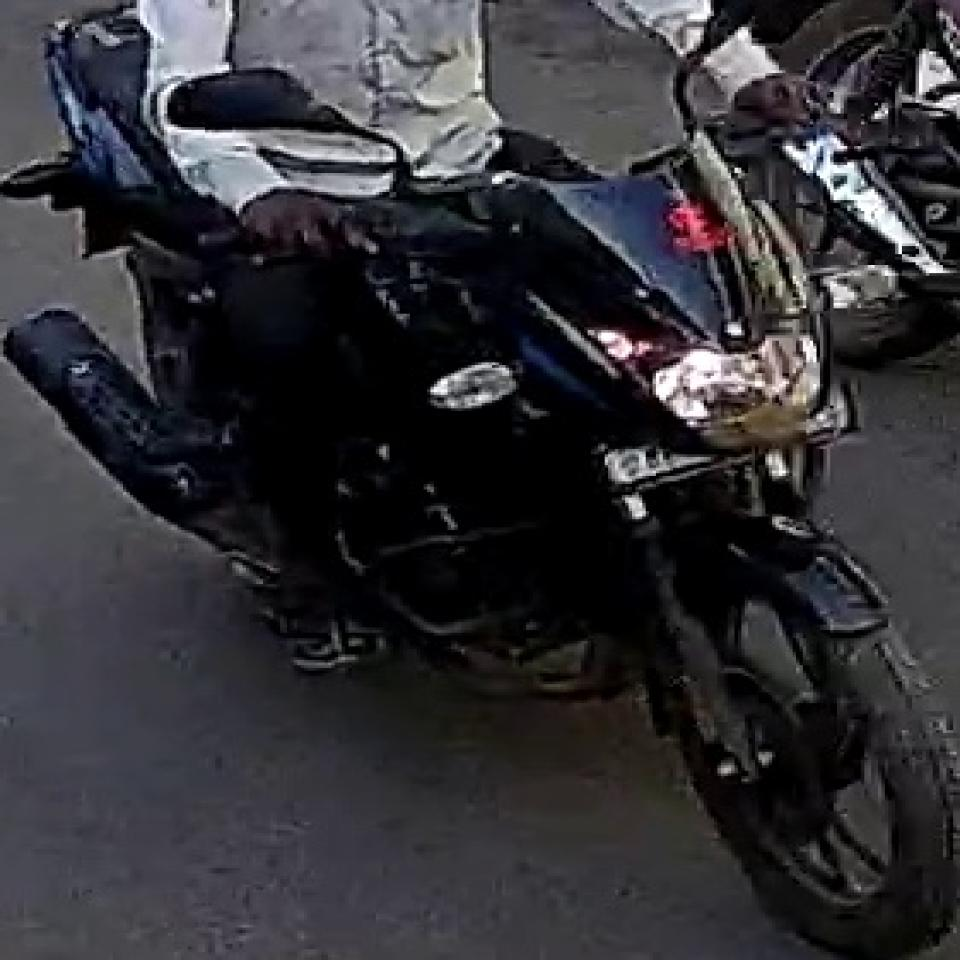head_light: (650, 331, 830, 452)
